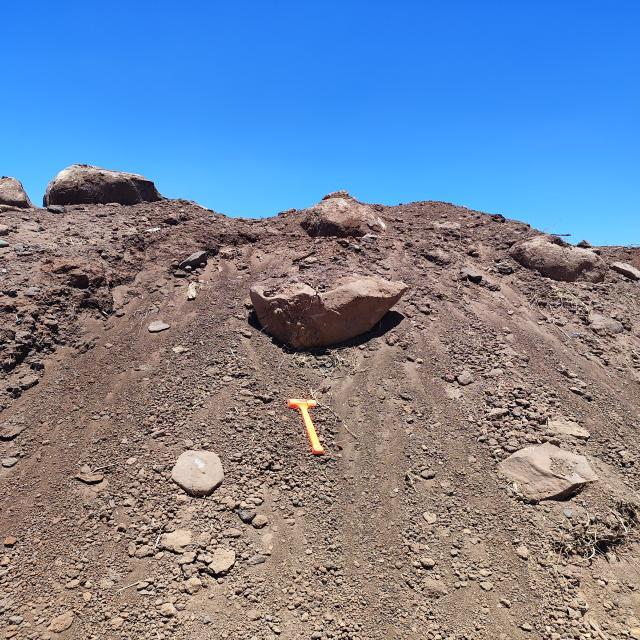Orange_hammer: (286, 397, 324, 455)
